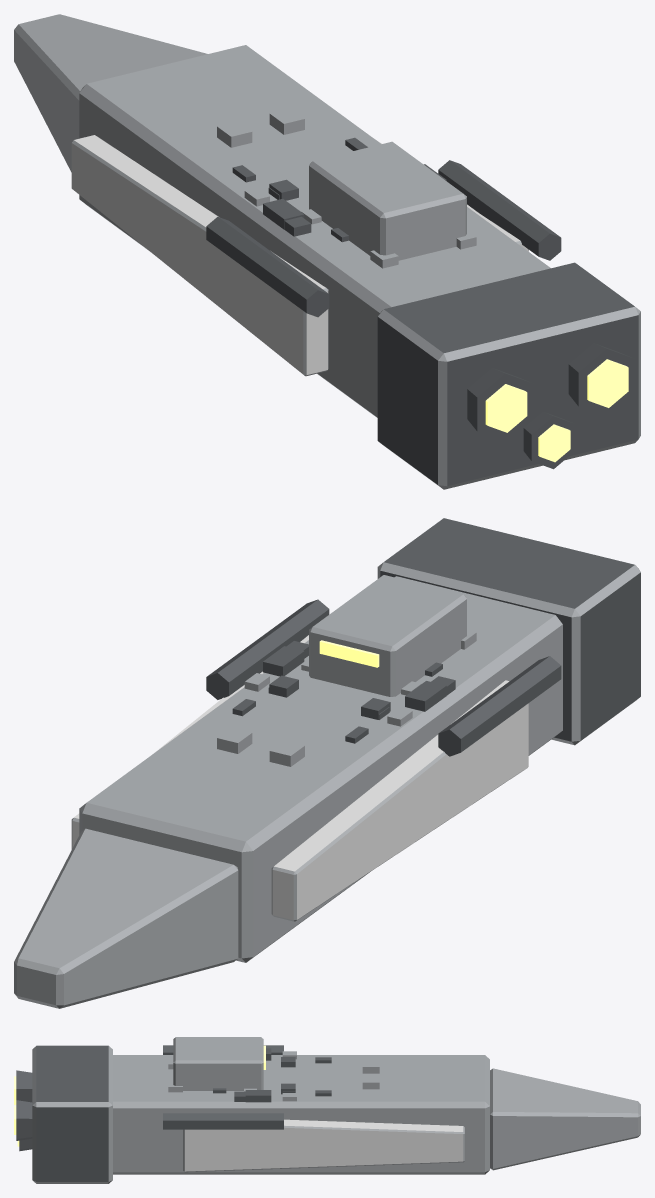
The model's file is human_destroyer_mk1.glb.
3 renders of one model, top to bottom at view 1: azimuth 30°, elevation 25°; view 2: azimuth 150°, elevation 25°; view 3: azimuth 270°, elevation 25°, orthographic. The views are drawn at different scales.
Parts seen in each view (by area): view 1: human_destroyer_mk1_LOD0; view 2: human_destroyer_mk1_LOD0; view 3: human_destroyer_mk1_LOD0.
Part boxes in pixels (x1,y1,x2,y2): human_destroyer_mk1_LOD0: (14, 14, 640, 489); human_destroyer_mk1_LOD0: (14, 518, 640, 1008); human_destroyer_mk1_LOD0: (14, 1037, 640, 1183).
Size of what is drawn, in the model's own units: 3.51 by 2.35 by 12.47.
